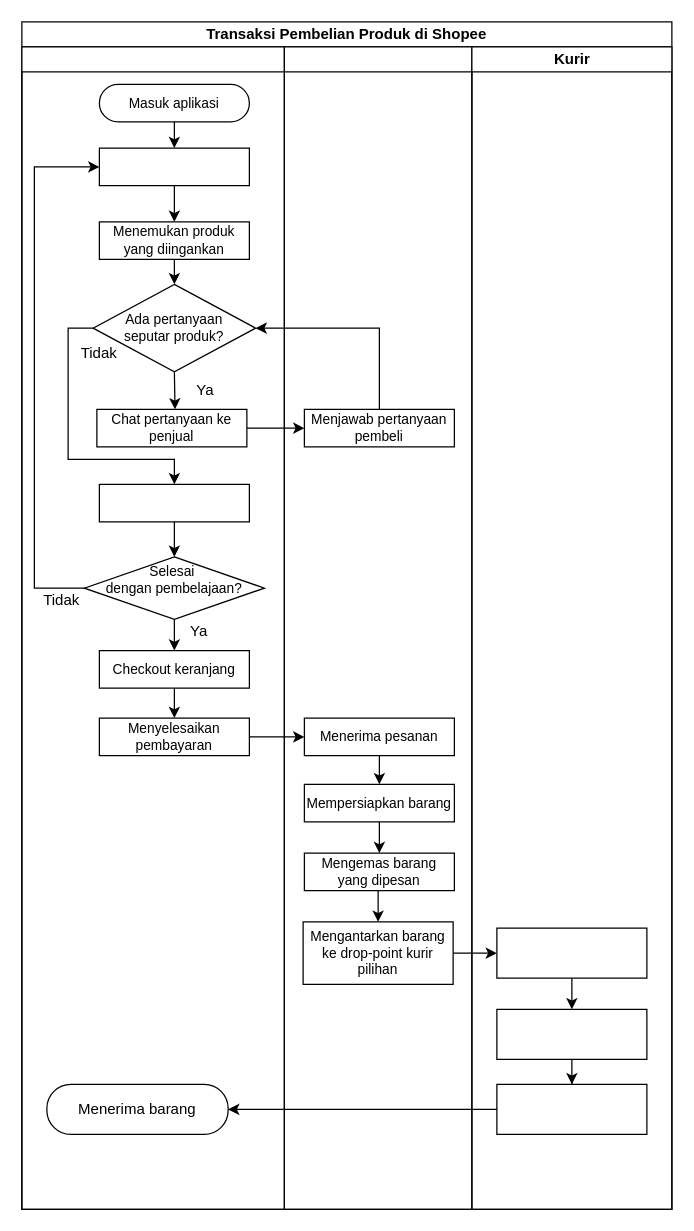
Some shapes in this 694 by 1231 pixel diagram are drawn without their labels. The shapes that lost their labels are listed below. From the top down, each one's box as (x1, y1, x2, y2) in pixels, then its label:
(98, 147, 249, 186): Mencari produk di pencarian
(98, 483, 249, 522): Masukkan ke keranjang
(21, 46, 284, 1209): Pembeli
(283, 46, 472, 1209): Penjual
(496, 927, 647, 978): Menerima barang yang dikemas
(496, 1008, 647, 1059): Mengirim paket ke lokasi pembeli
(496, 1083, 647, 1134): Menyerahkan paket ke pembeli
